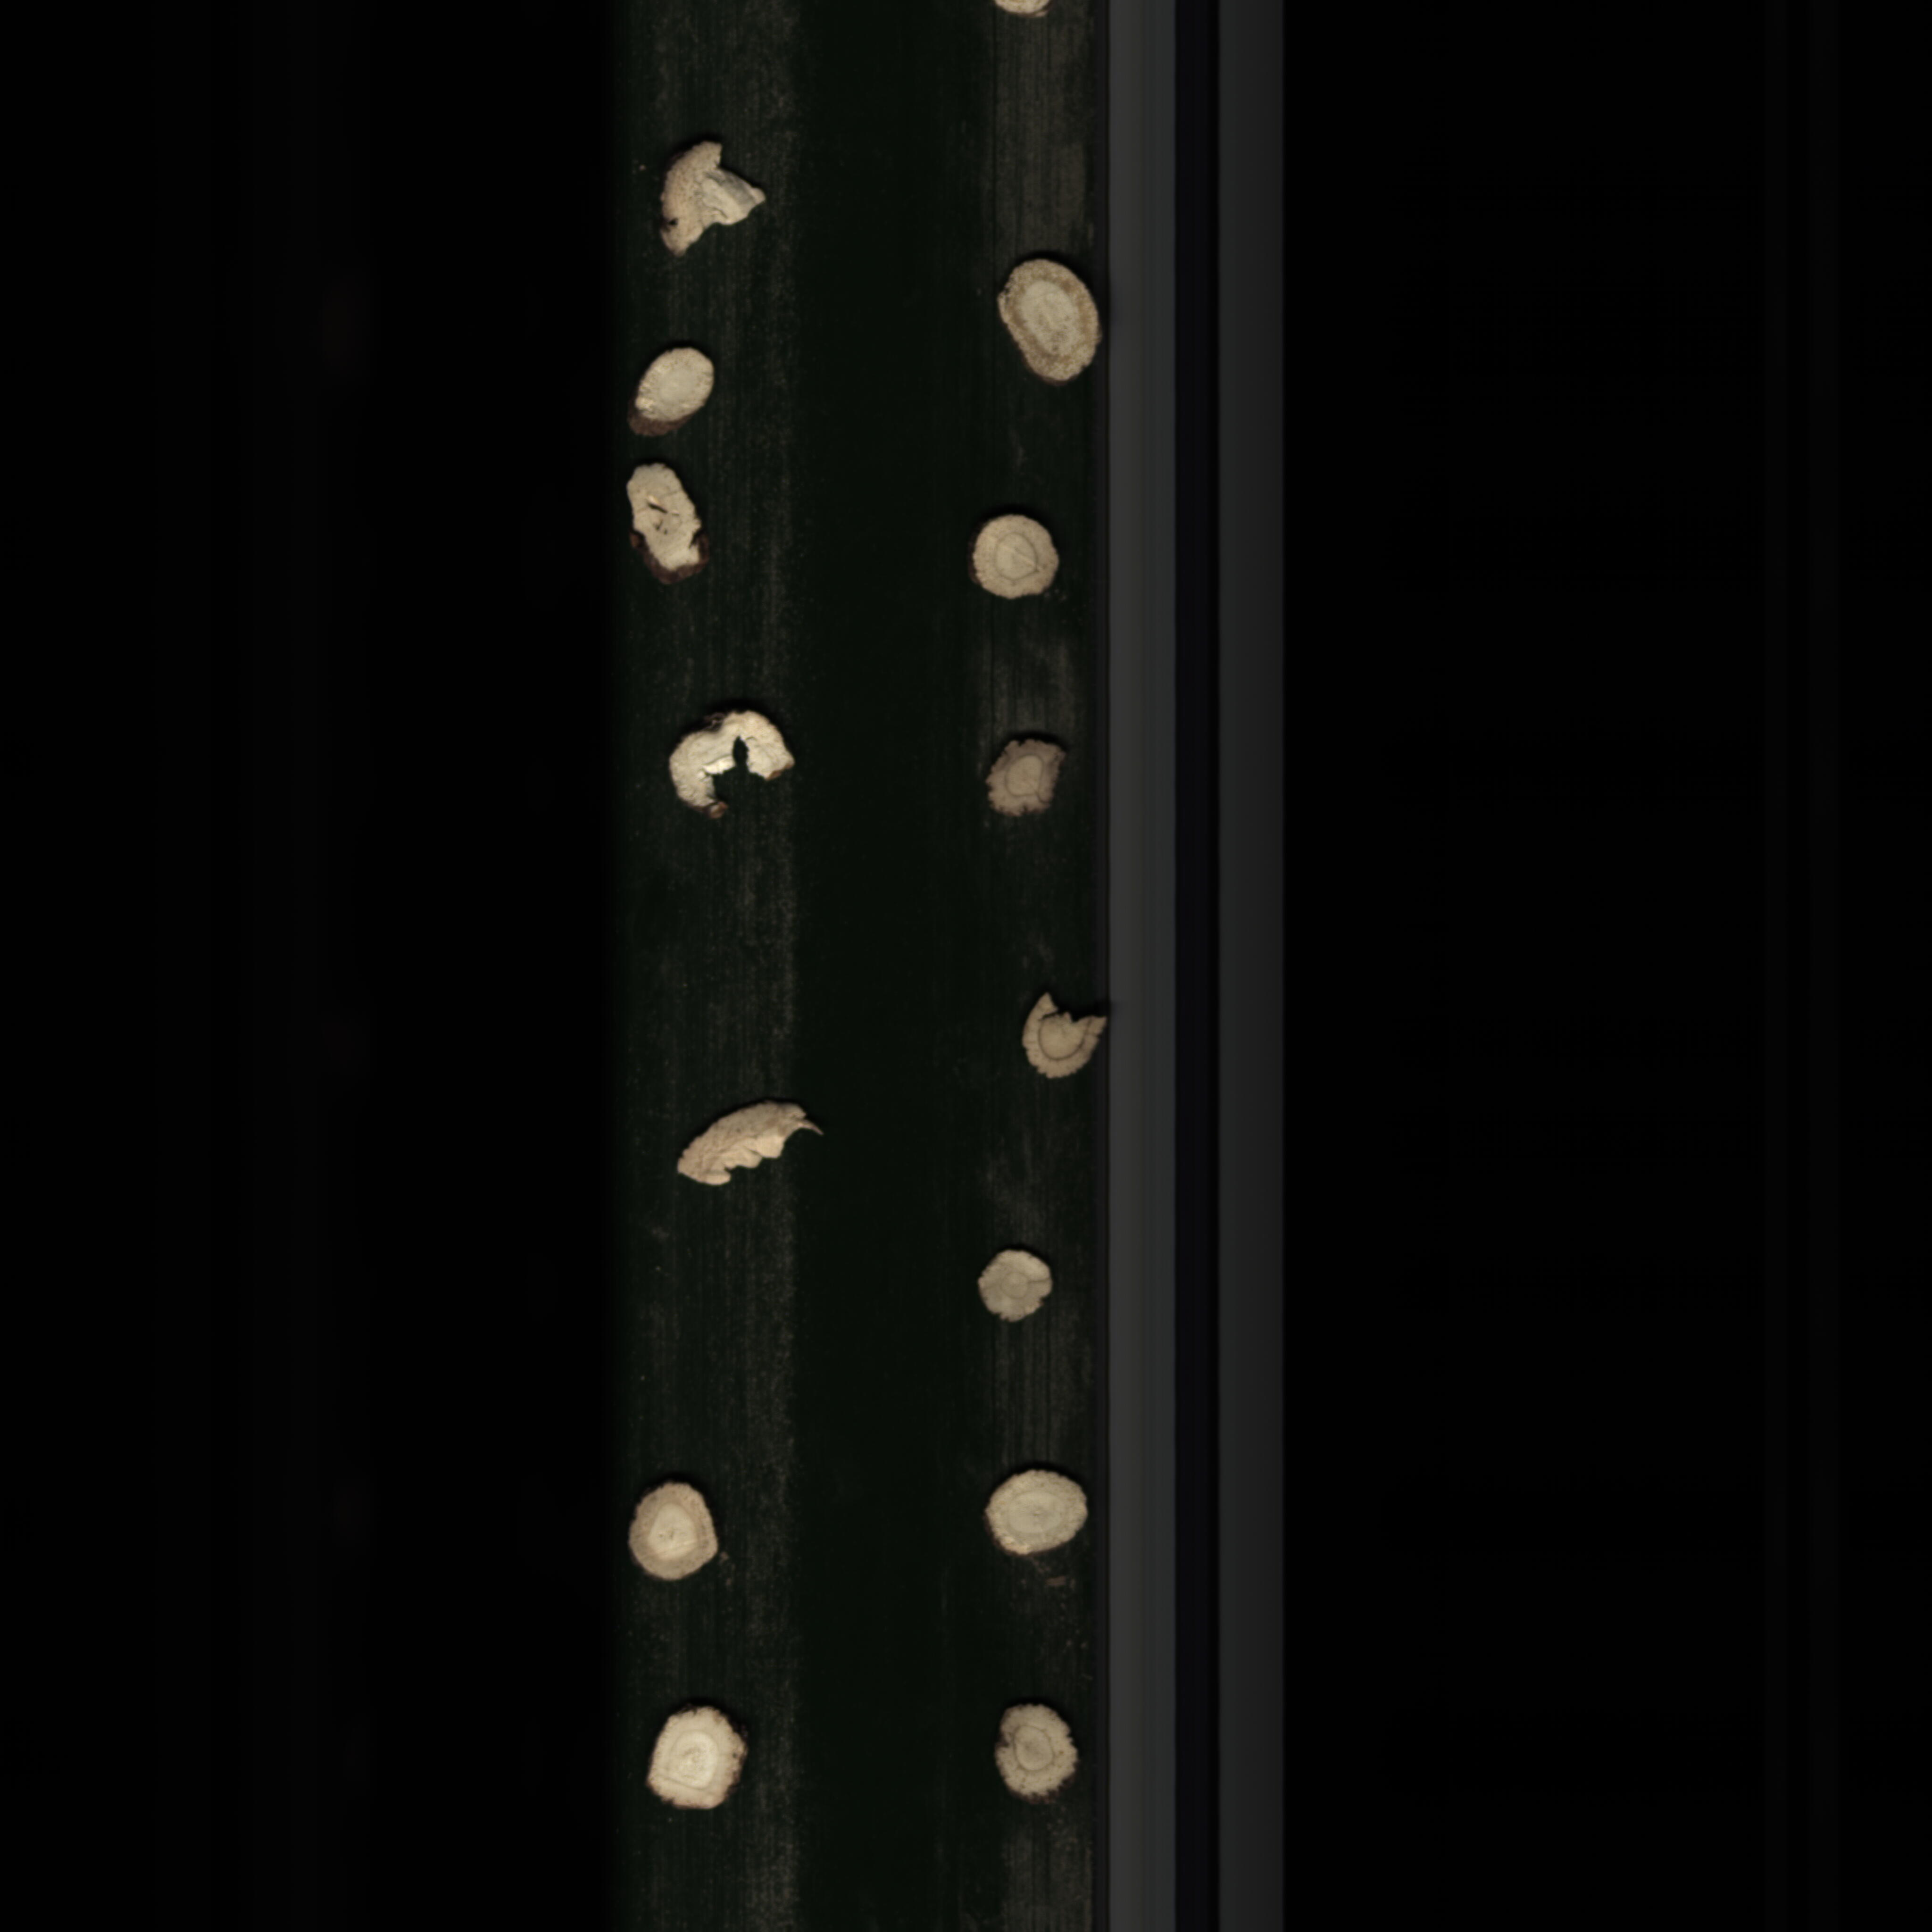debris: (640, 704, 809, 823), (635, 124, 770, 262), (656, 1088, 835, 1191), (1010, 980, 1109, 1086)
hole: (619, 451, 718, 596)
moldy: (989, 253, 1108, 395), (975, 724, 1069, 824)
